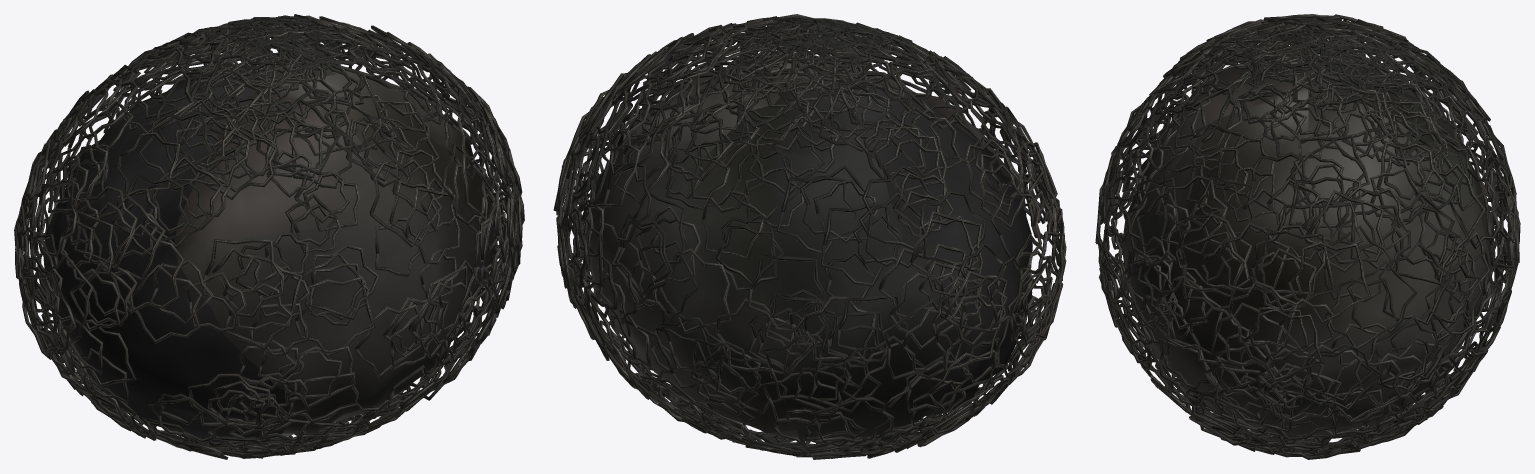
File: sink_faucet__sink_scourer.glb
3 views of the same model, side by side, from view 1: azimuth 30°, elevation 25°; view 2: azimuth 150°, elevation 25°; view 3: azimuth 270°, elevation 25° (orthographic). The views are drawn at different scales.
Parts seen in each view (by area): view 1: scourer; view 2: scourer; view 3: scourer.
Boxes of the visible parts, box(x1,y1,x2,y2) form: scourer: box(14, 14, 524, 459); scourer: box(553, 14, 1066, 459); scourer: box(1095, 14, 1520, 459).
Size of the model in its own units: 0.0793 by 0.0658 by 0.0659.
Materials: 2 (2 with a texture image).
